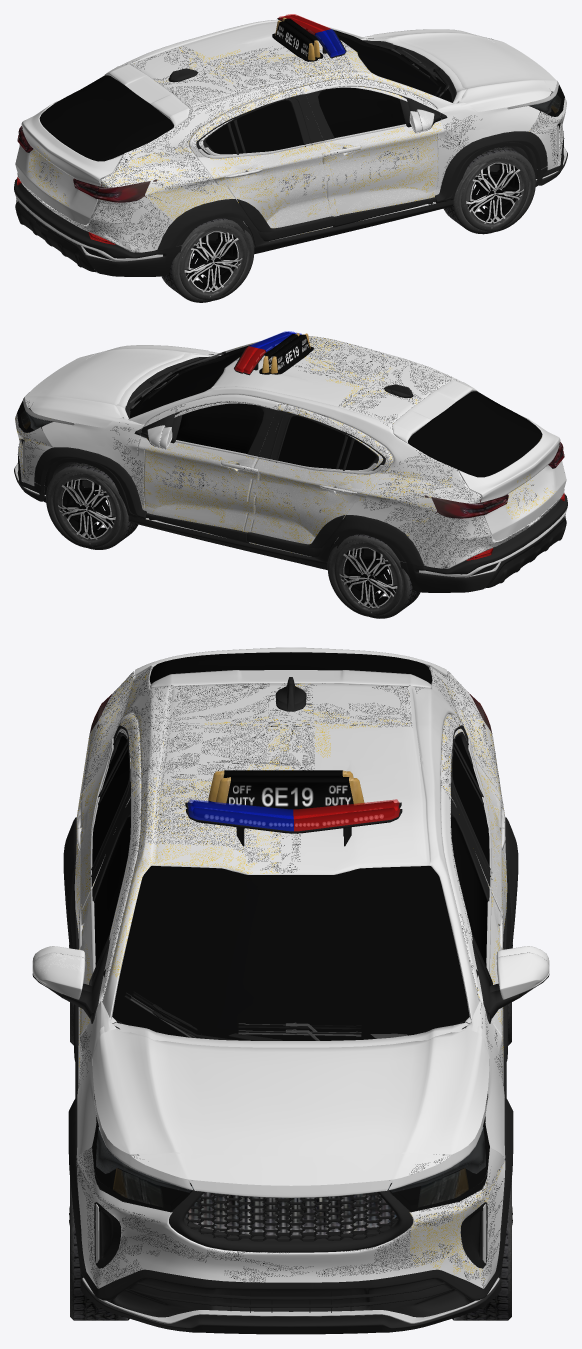
File: cars.v2.glb
3 renders of one model, top to bottom at view 1: azimuth 30°, elevation 25°; view 2: azimuth 150°, elevation 25°; view 3: azimuth 270°, elevation 25°, orthographic. The views are drawn at different scales.
Parts seen in each view (by area): view 1: suv_far_body4, suv_far_body2, suv_body7, suv_far_body3, Cube.026, Plane.103, suv_police_far_body4, suv_body6, suv_far_tyre_fr, suv_far_tyre_rr, suv_body0, suv_tyre_fr (+19 smaller); view 2: suv_far_body4, suv_far_body2, suv_body7, suv_far_body3, Plane.092, Plane.089, suv_police_far_body4, suv_body6, suv_far_tyre_fl, suv_far_tyre_rl, suv_body0, suv_tyre_fl (+19 smaller); view 3: suv_body7, suv_body0, suv_far_body2, suv_taxi_body0, suv_far_body4, suv_body6, suv_body1, suv_police_body7, suv_police_far_body4, suv_far_body3, Plane.092, Cube.026 (+22 smaller).
Boxes of the visible parts, left/top/right/bottom form: suv_far_body4: left=15, top=26, right=548, bottom=252; suv_far_body2: left=15, top=33, right=550, bottom=272; suv_body7: left=147, top=19, right=566, bottom=249; suv_far_body3: left=14, top=40, right=552, bottom=276; Cube.026: left=303, top=78, right=444, bottom=220; Plane.103: left=199, top=88, right=337, bottom=234; suv_police_far_body4: left=18, top=46, right=533, bottom=252; suv_body6: left=26, top=38, right=567, bottom=274; suv_far_tyre_fr: left=443, top=150, right=528, bottom=234; suv_far_tyre_rr: left=161, top=220, right=247, bottom=302; suv_body0: left=334, top=30, right=564, bottom=116; suv_tyre_fr: left=461, top=146, right=535, bottom=231; suv_far_body4: left=33, top=342, right=566, bottom=568; suv_far_body2: left=31, top=346, right=566, bottom=588; suv_body7: left=15, top=336, right=434, bottom=565; suv_far_body3: left=26, top=356, right=567, bottom=592; Plane.092: left=137, top=394, right=278, bottom=529; Plane.089: left=244, top=404, right=383, bottom=554; suv_police_far_body4: left=121, top=344, right=550, bottom=568; suv_body6: left=14, top=354, right=551, bottom=590; suv_far_tyre_fl: left=53, top=466, right=138, bottom=549; suv_far_tyre_rl: left=334, top=536, right=420, bottom=618; suv_body0: left=17, top=344, right=252, bottom=432; suv_tyre_fl: left=46, top=462, right=120, bottom=547; suv_body7: left=75, top=714, right=506, bottom=1288; suv_body0: left=92, top=866, right=489, bottom=1211; suv_far_body2: left=78, top=652, right=503, bottom=1233; suv_taxi_body0: left=92, top=878, right=489, bottom=1211; suv_far_body4: left=32, top=647, right=549, bottom=1250; suv_body6: left=63, top=683, right=518, bottom=1334; suv_body1: left=82, top=809, right=499, bottom=1323; suv_police_body7: left=77, top=720, right=502, bottom=1287; suv_police_far_body4: left=78, top=668, right=504, bottom=1154; suv_far_body3: left=63, top=677, right=518, bottom=1316; Plane.092: left=440, top=787, right=549, bottom=1084; Cube.026: left=32, top=787, right=141, bottom=1083.
Bounding box in the file's own units: 4.44 × 1.68 × 1.99.
10 materials, 9 textured.
